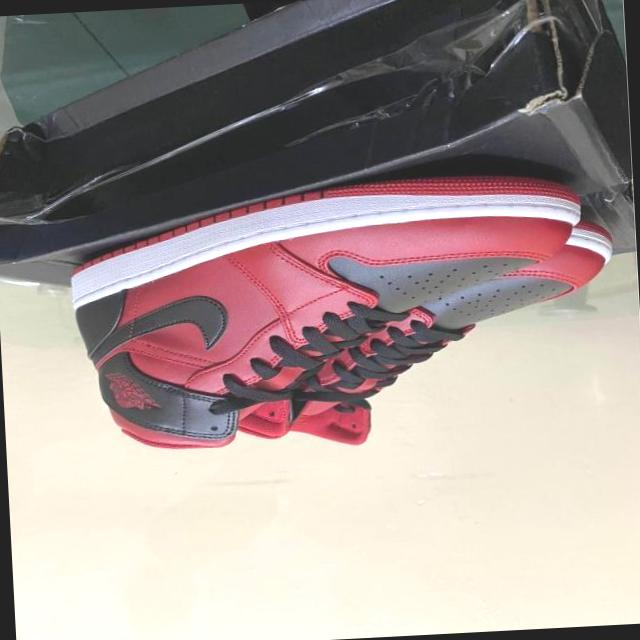nike_original_jordan: (62, 164, 599, 460), (227, 218, 624, 453)
